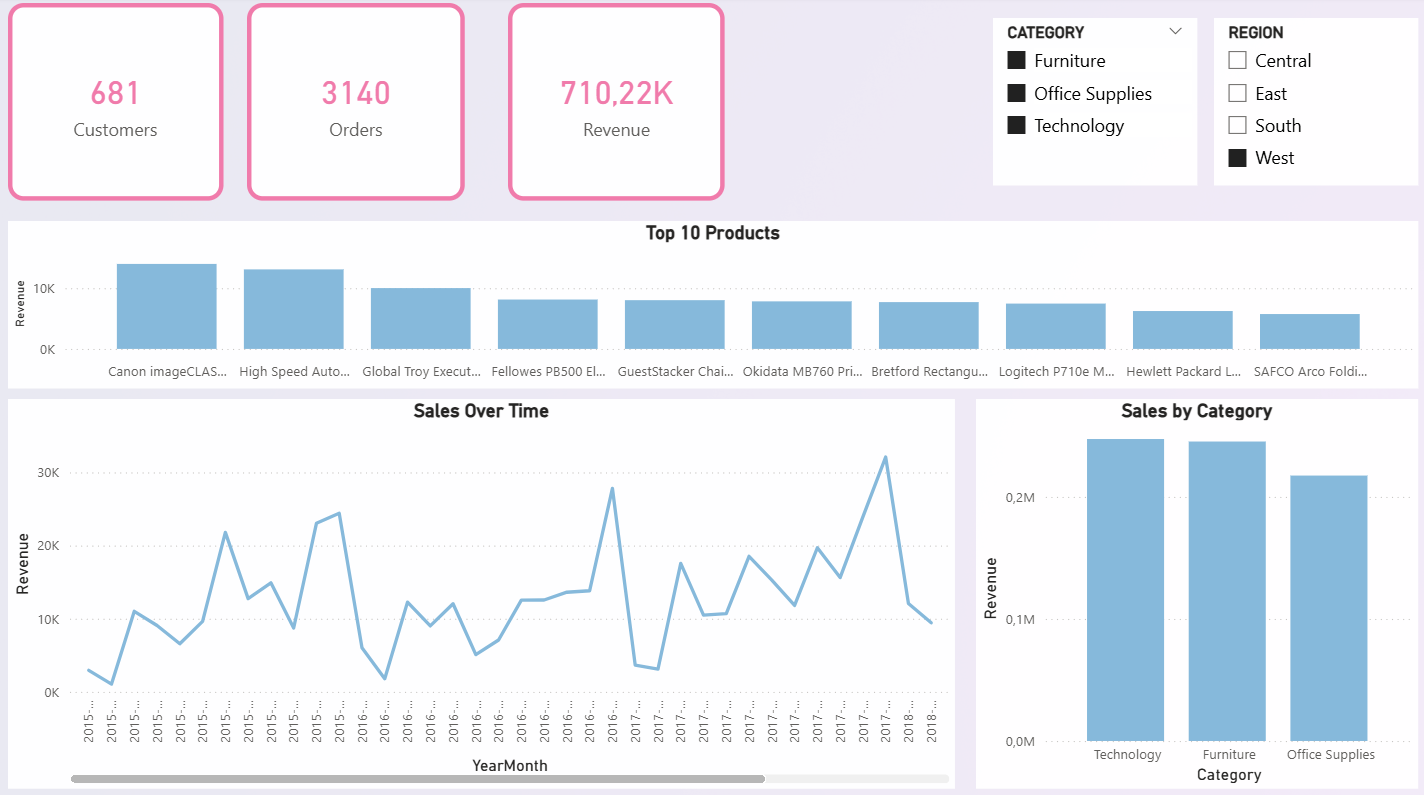

What the dashboard file says about the page in this screenshot:
{"tool":"powerbi","page":{"name":"Page 1","canvas":[1280,720],"ordinal":0},"visuals":[{"type":"card","fields":{"Values":["train.Total Customers"]},"box":[9.9,5.4,192.5,177.3],"z":0},{"type":"card","fields":{"Values":["train.Total Orders"]},"box":[223.9,5.4,195.2,177.3],"z":1000},{"type":"card","fields":{"Values":["train.Total Sales"]},"box":[457.6,5.4,194.3,177.3],"z":2000},{"type":"lineChart","title":"Sales Over Time","fields":{"Y":["train.Total Sales"],"Category":["train.YearMonth"]},"box":[9.9,360,848.1,349.3],"z":3000},{"type":"columnChart","title":"Sales by Category","fields":{"Category":["train.Category"],"Y":["train.Total Sales"]},"box":[876.7,360,395.8,349.3],"z":4000},{"type":"columnChart","title":"Top 10 Products","fields":{"Category":["train.Product Name"],"Y":["train.Total Sales"]},"box":[9.9,200.6,1262.7,149.6],"z":5000},{"type":"slicer","fields":{"Values":["train.Category"]},"box":[891.9,18.8,182.7,149.6],"z":6000},{"type":"slicer","fields":{"Values":["train.Region"]},"box":[1089.9,18.8,182.7,149.6],"z":7000}]}

Visuals, with their boxes in screenshot pixels (x1, y1, x2, y2), scaled from the page's 1280x720 canvas onto the 1424x795 screenshot:
card - train.Total Customers: crop(11, 6, 225, 202)
card - train.Total Orders: crop(249, 6, 466, 202)
card - train.Total Sales: crop(509, 6, 725, 202)
"Sales Over Time" lineChart: crop(11, 398, 955, 783)
"Sales by Category" columnChart: crop(975, 398, 1416, 783)
"Top 10 Products" columnChart: crop(11, 221, 1416, 387)
slicer - train.Category: crop(992, 21, 1195, 186)
slicer - train.Region: crop(1213, 21, 1416, 186)
